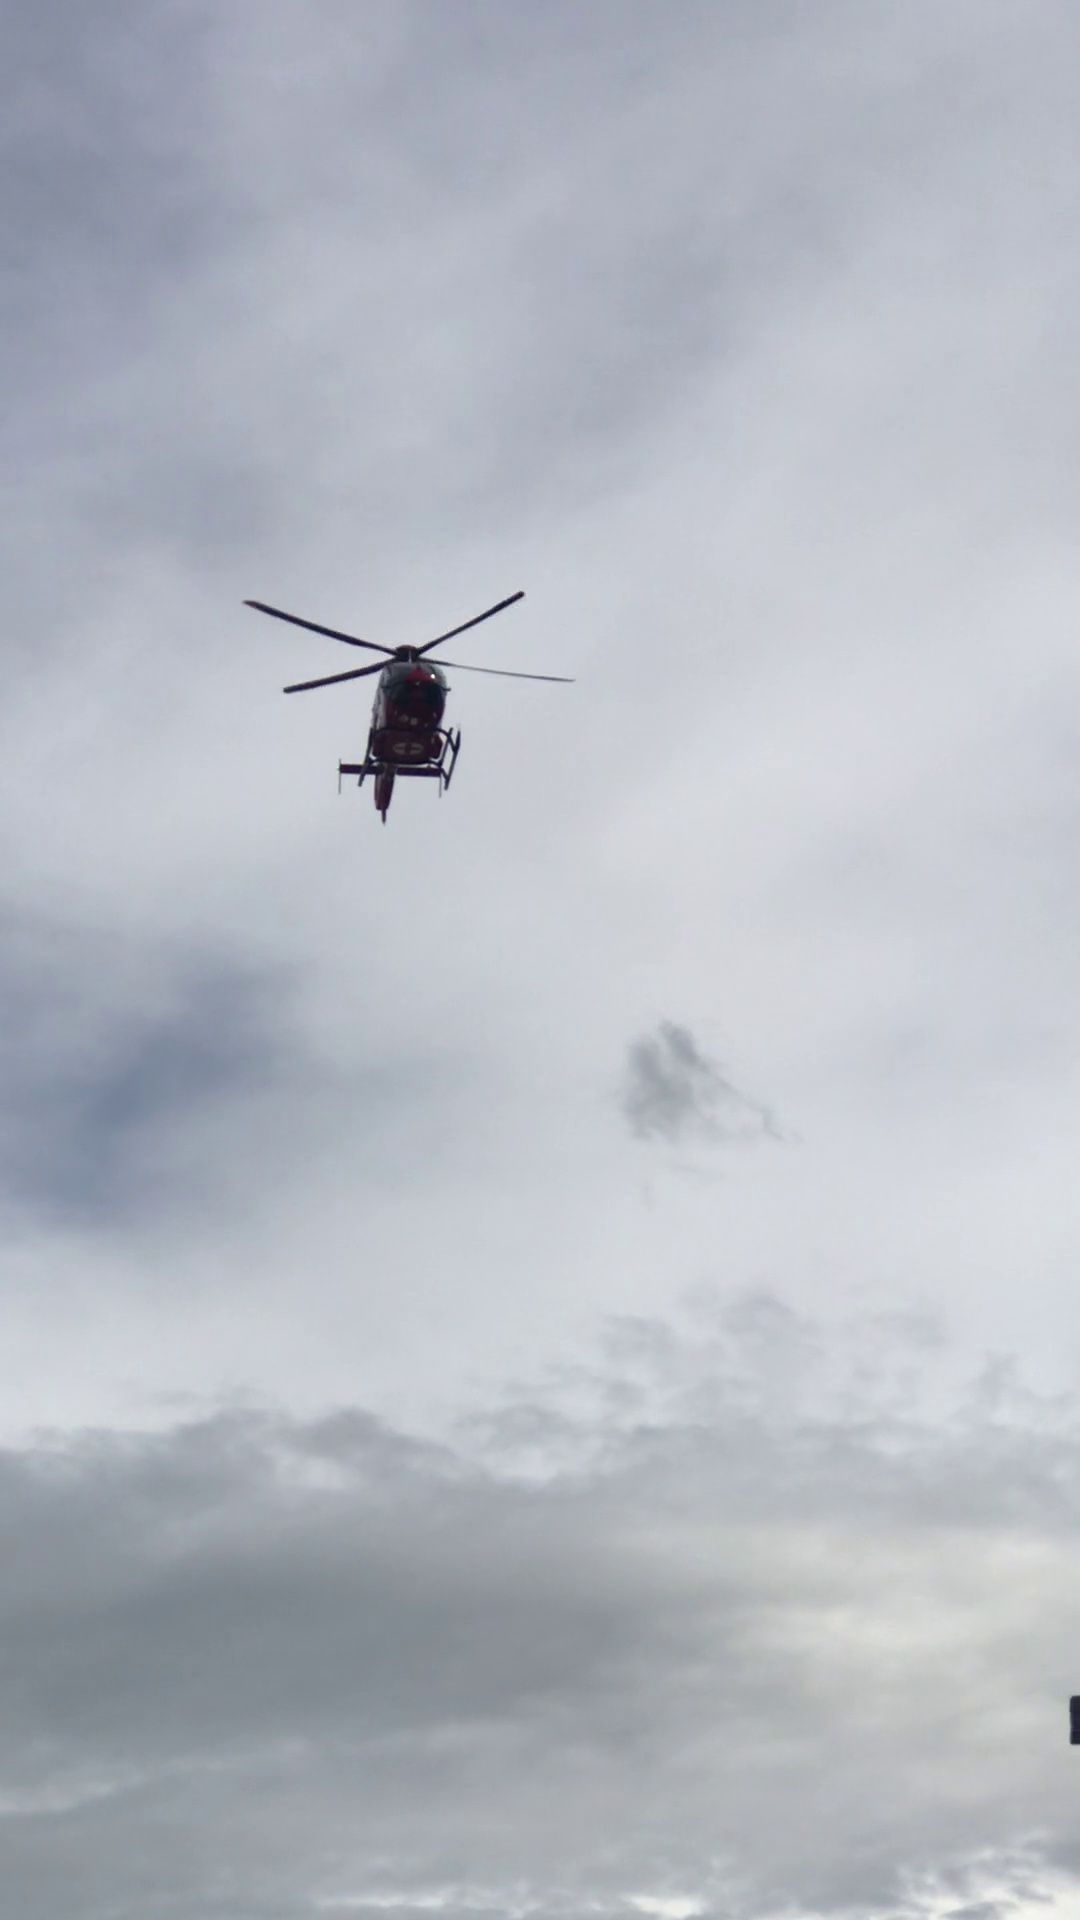heli: (245, 592, 567, 823)
